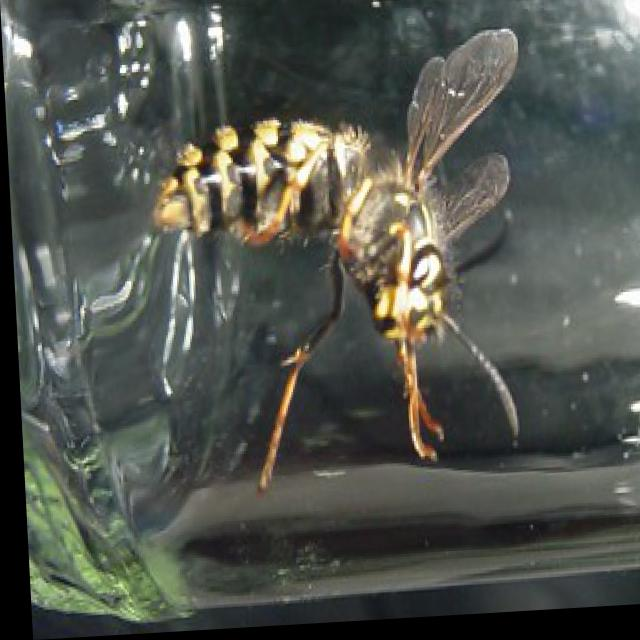Guepe: (115, 25, 572, 520)
